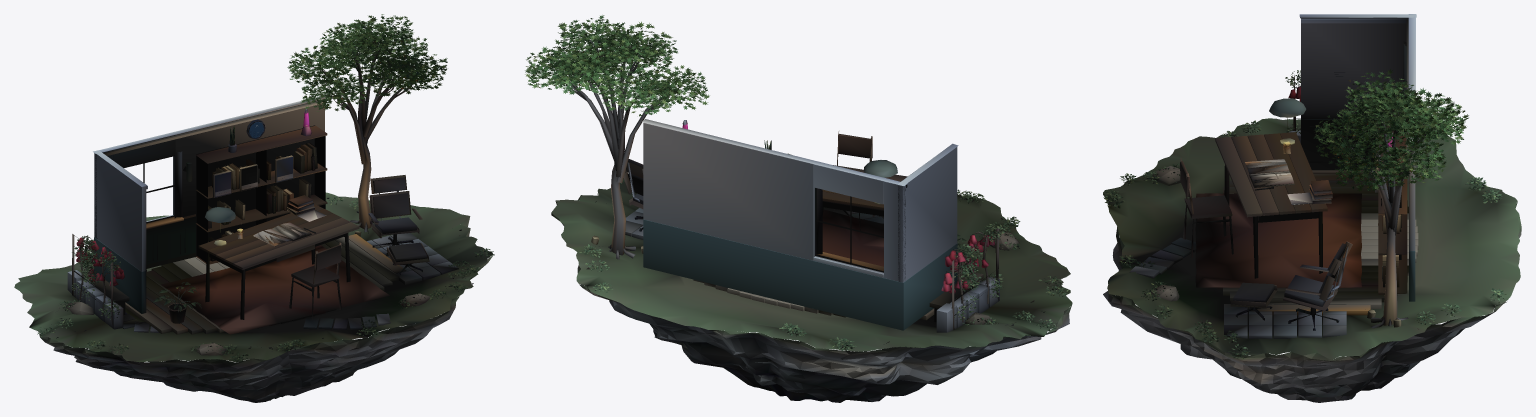
The model's file is flight-writing-1b7ac9b1.glb.
The picture shows the model from 3 angles, left to right: view 1: azimuth 30°, elevation 25°; view 2: azimuth 150°, elevation 25°; view 3: azimuth 270°, elevation 25°; orthographic projection. The views are drawn at different scales.
Parts seen in each view (by area): view 1: Writing island · flight.001; view 2: Writing island · flight.001; view 3: Writing island · flight.001.
Part boxes in pixels (<box>): Writing island · flight.001: <box>14,14,494,402</box>; Writing island · flight.001: <box>525,15,1072,402</box>; Writing island · flight.001: <box>1103,14,1521,402</box>.
Bounding box in the file's own units: 11.76 × 8.12 × 8.15.
